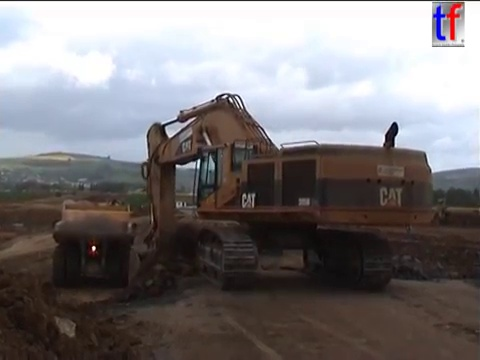excavator: (131, 90, 440, 295), (101, 196, 128, 213)
truck: (49, 197, 139, 290), (215, 182, 295, 258), (53, 190, 63, 198), (70, 189, 79, 196)
worker: (402, 213, 416, 238)
